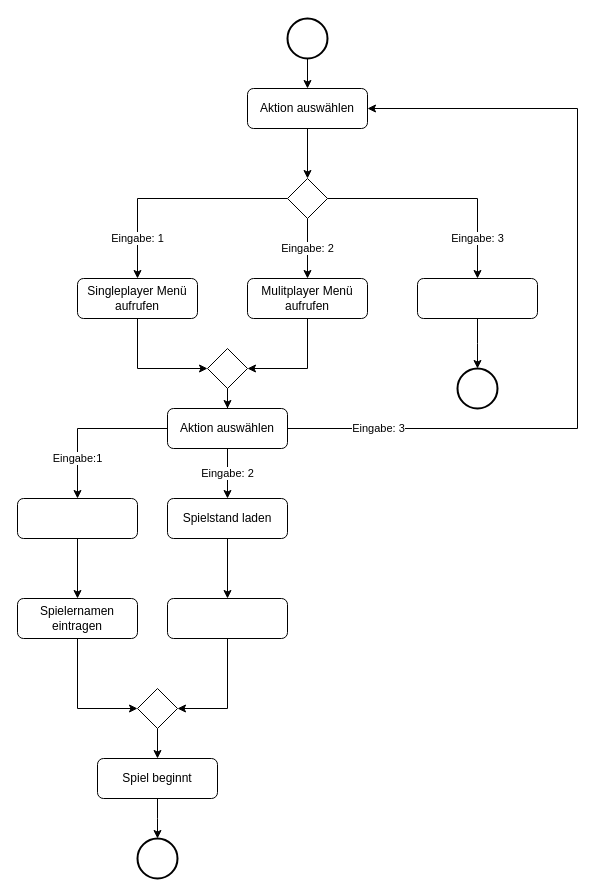
This 603x896 diagram has some shape labels left out. The centre of each missing label's shape, as x and y in pixels:
Neues Spiel starten: (77,518)
Programm beenden: (477,298)
Spielstand auswählen: (227,618)
